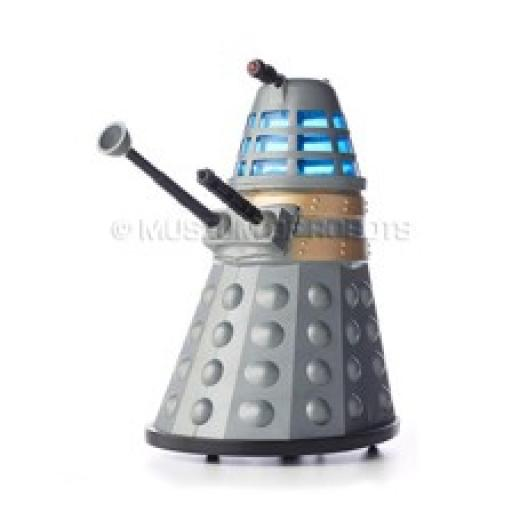dalek: (74, 52, 414, 459)
